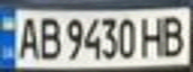0: (118, 15, 142, 60)
3: (100, 15, 121, 61)
4: (81, 15, 103, 61)
9: (60, 15, 84, 61)
A: (12, 12, 42, 61)
B: (157, 11, 190, 57), (36, 14, 63, 61)
H: (139, 12, 169, 59)
